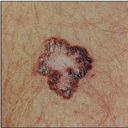Melanoma: (34, 37, 91, 98)
